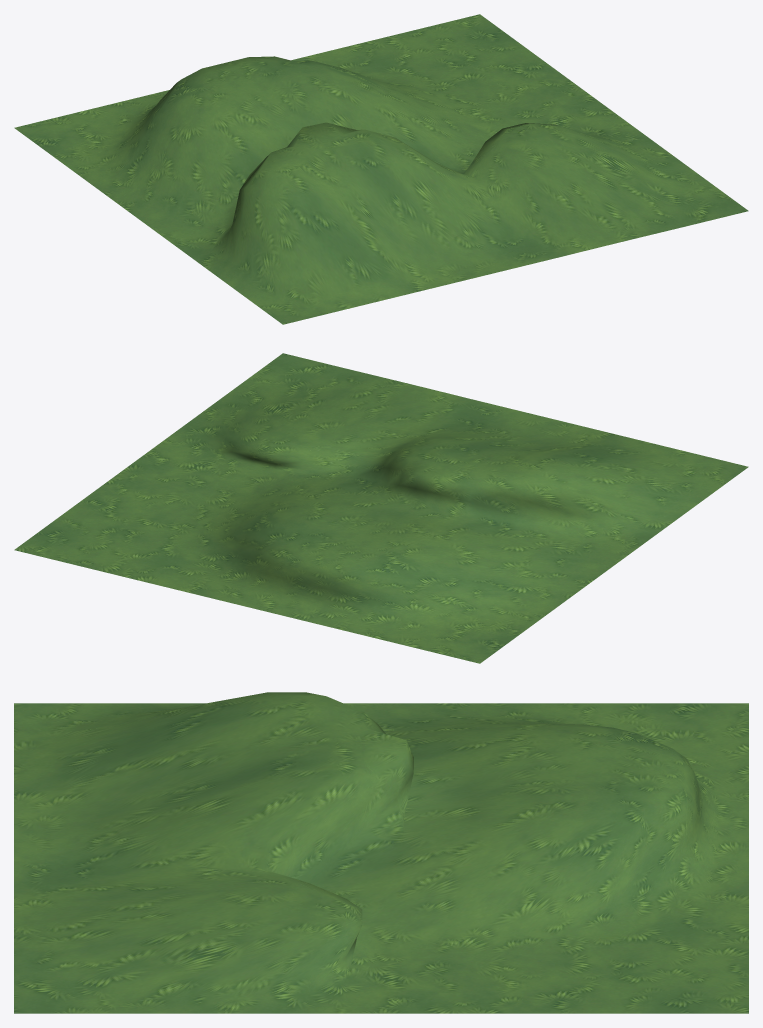
Rendered from hills.fbx.
The picture shows the model from 3 angles, top to bottom: view 1: azimuth 30°, elevation 25°; view 2: azimuth 150°, elevation 25°; view 3: azimuth 270°, elevation 25°; orthographic projection. The views are drawn at different scales.
Visible parts, largest first — view 1: pPlane1; view 2: pPlane1; view 3: pPlane1.
Boxes of the visible parts, x1,y1,x2,y2 form: pPlane1: (14, 14, 748, 324); pPlane1: (14, 353, 748, 663); pPlane1: (14, 692, 748, 1013).
Size of the model in its own units: 26.52 by 2.86 by 26.52.
Materials: 1 (1 with a texture image).
